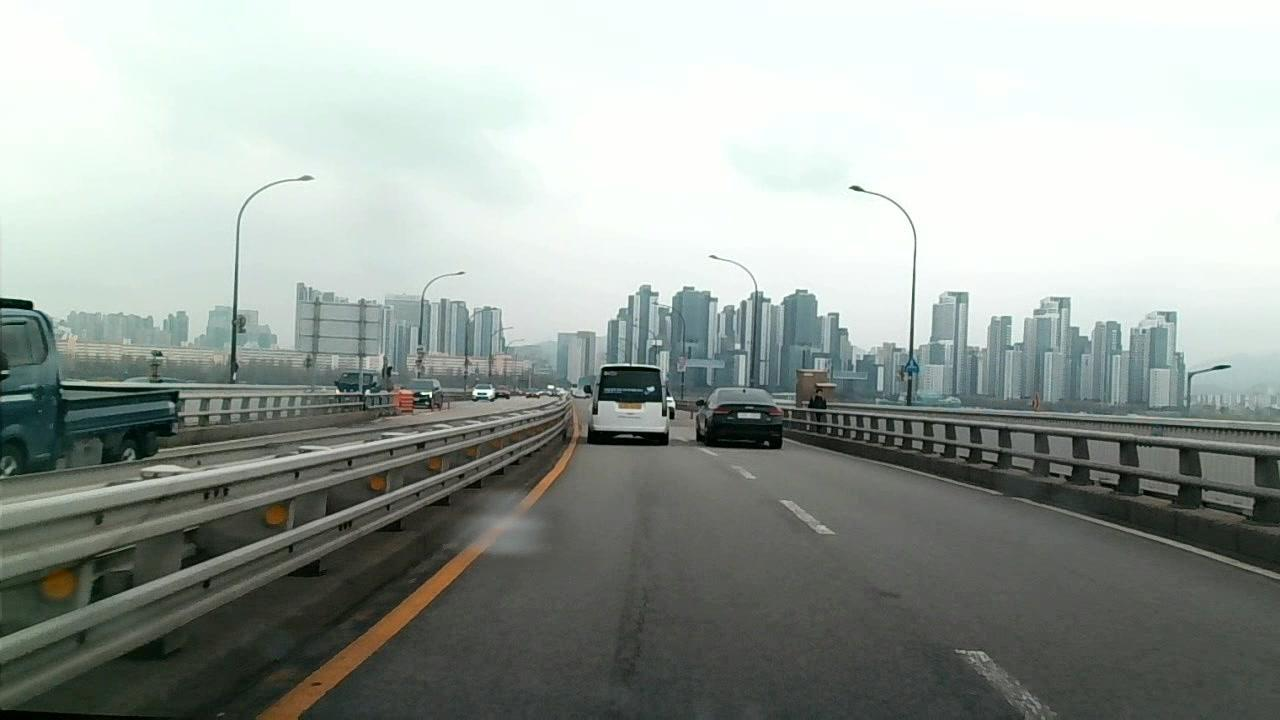vcrack: (606, 543, 655, 712)
